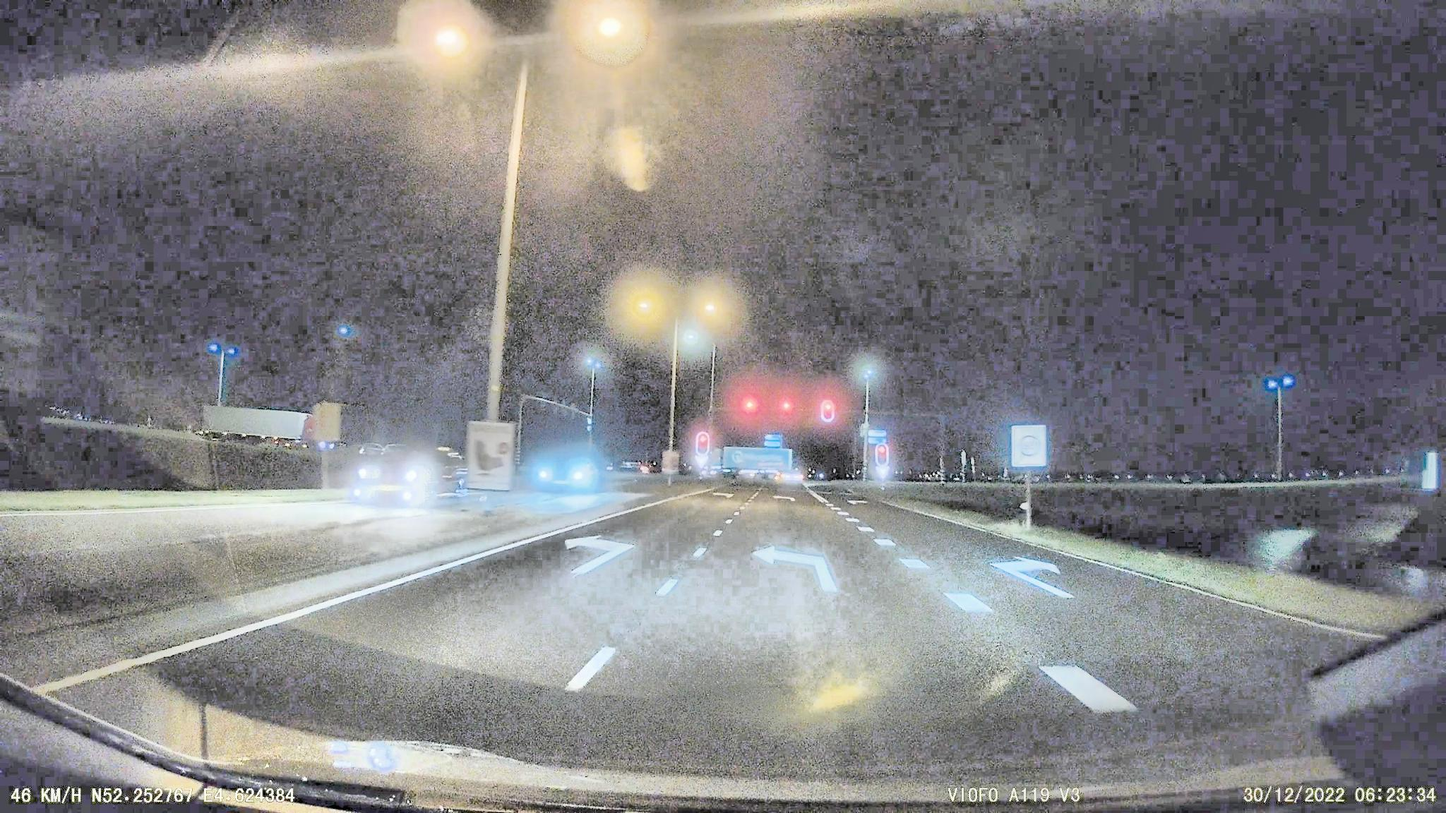Roads: (45, 485, 1446, 813)
